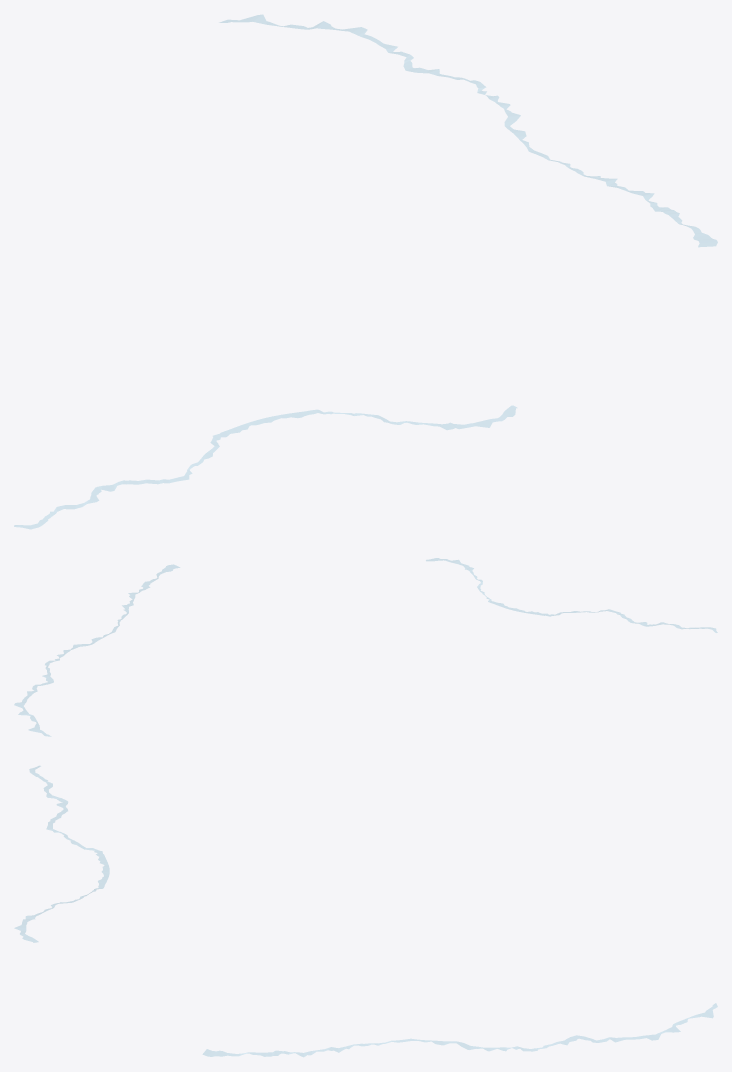
The model's file is Waves.glb.
3 views of the same model, one above another, from view 1: azimuth 30°, elevation 25°; view 2: azimuth 150°, elevation 25°; view 3: azimuth 270°, elevation 25° (orthographic). The views are drawn at different scales.
Parts seen in each view (by area): view 1: Waves; view 2: Waves; view 3: Waves.
Boxes of the visible parts, left/top/right/bottom form: Waves: left=14, top=14, right=717, bottom=529; Waves: left=14, top=558, right=717, bottom=736; Waves: left=14, top=765, right=717, bottom=1057.
Bounding box in the file's own units: 18.35 × 0.0103 × 18.69.
